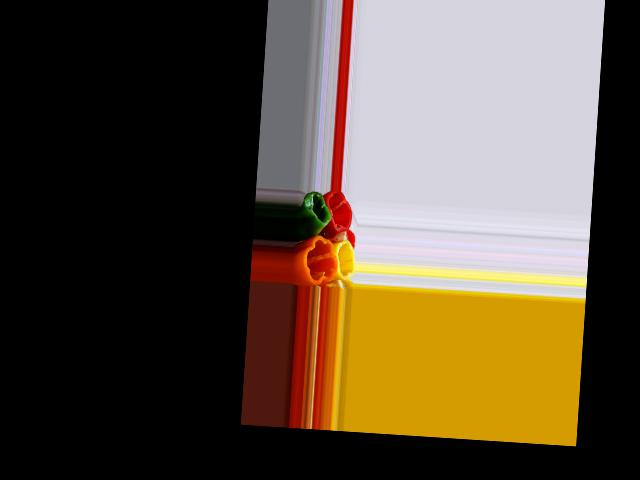bell_pepper: (326, 192, 354, 233)
